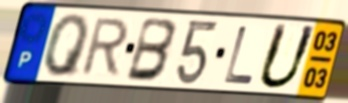5: (175, 17, 220, 86)
B: (123, 16, 179, 84)
L: (221, 23, 257, 86)
Q: (43, 12, 92, 79)
R: (78, 17, 132, 78)
U: (255, 21, 320, 92)
